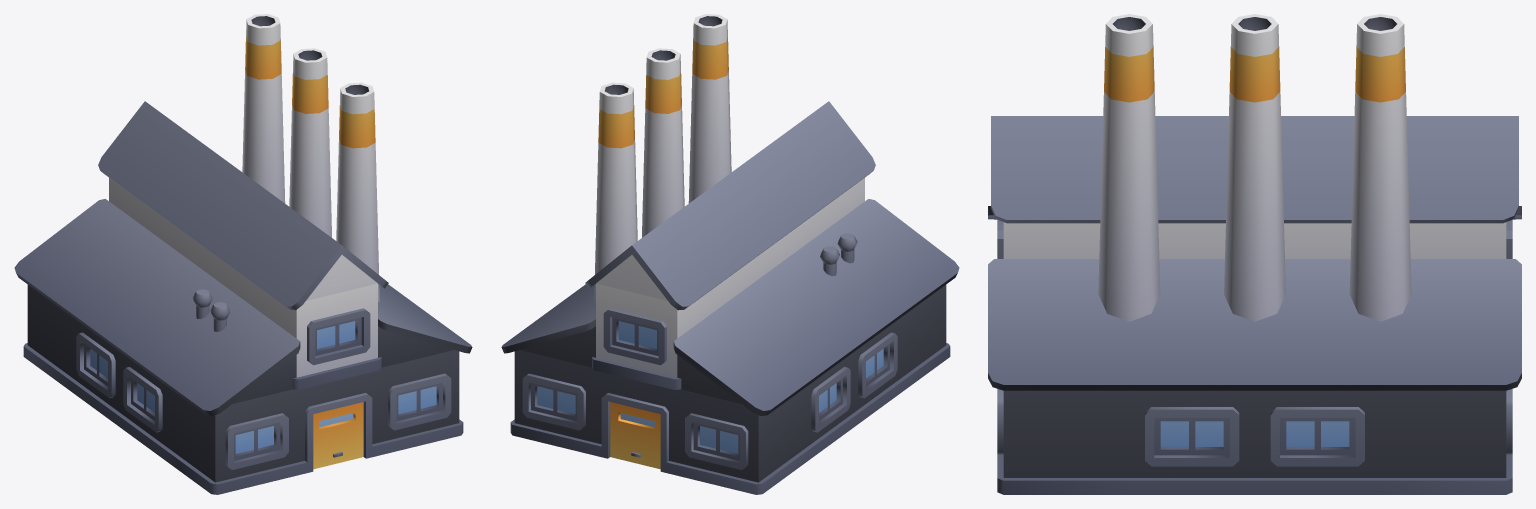
File: building-m_lev1.glb
3 views of the same model, side by side, from view 1: azimuth 30°, elevation 25°; view 2: azimuth 150°, elevation 25°; view 3: azimuth 270°, elevation 25° (orthographic). The views are drawn at different scales.
Visible parts, largest first — view 1: building-m_lev1; view 2: building-m_lev1; view 3: building-m_lev1.
Part boxes in pixels (left/top/right/bottom): building-m_lev1: left=14, top=14, right=472, bottom=494; building-m_lev1: left=501, top=14, right=959, bottom=494; building-m_lev1: left=988, top=14, right=1521, bottom=494.
Bounding box in the file's own units: 10.37 × 11.97 × 13.4.
Materials: 1 (1 with a texture image).
